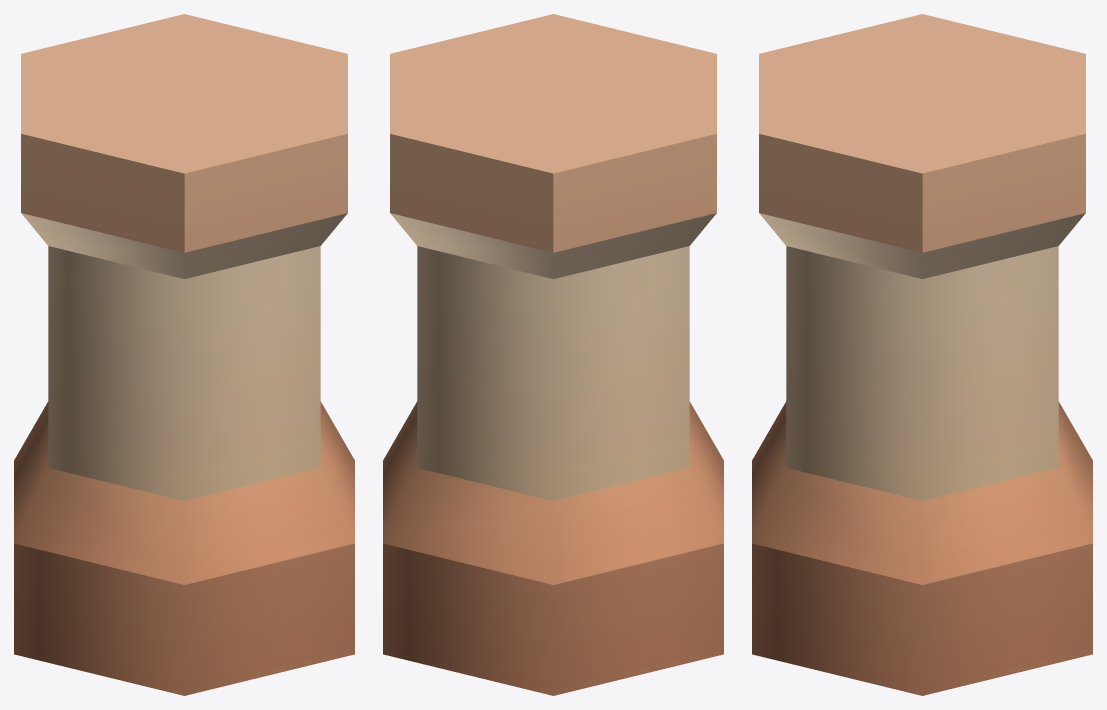
Rendered from p-castle-tower-hexagon-base.glb.
3 views of the same model, side by side, from view 1: azimuth 30°, elevation 25°; view 2: azimuth 150°, elevation 25°; view 3: azimuth 270°, elevation 25° (orthographic).
Visible parts, largest first — view 1: tower-hexagon-base; view 2: tower-hexagon-base; view 3: tower-hexagon-base.
Part boxes in pixels (left/top/right/bottom): tower-hexagon-base: left=14, top=14, right=354, bottom=695; tower-hexagon-base: left=383, top=14, right=723, bottom=695; tower-hexagon-base: left=752, top=14, right=1092, bottom=695.
Bounding box in the file's own units: 0.8999 × 1.31 × 0.7794.
Materials: 1 (1 with a texture image).
